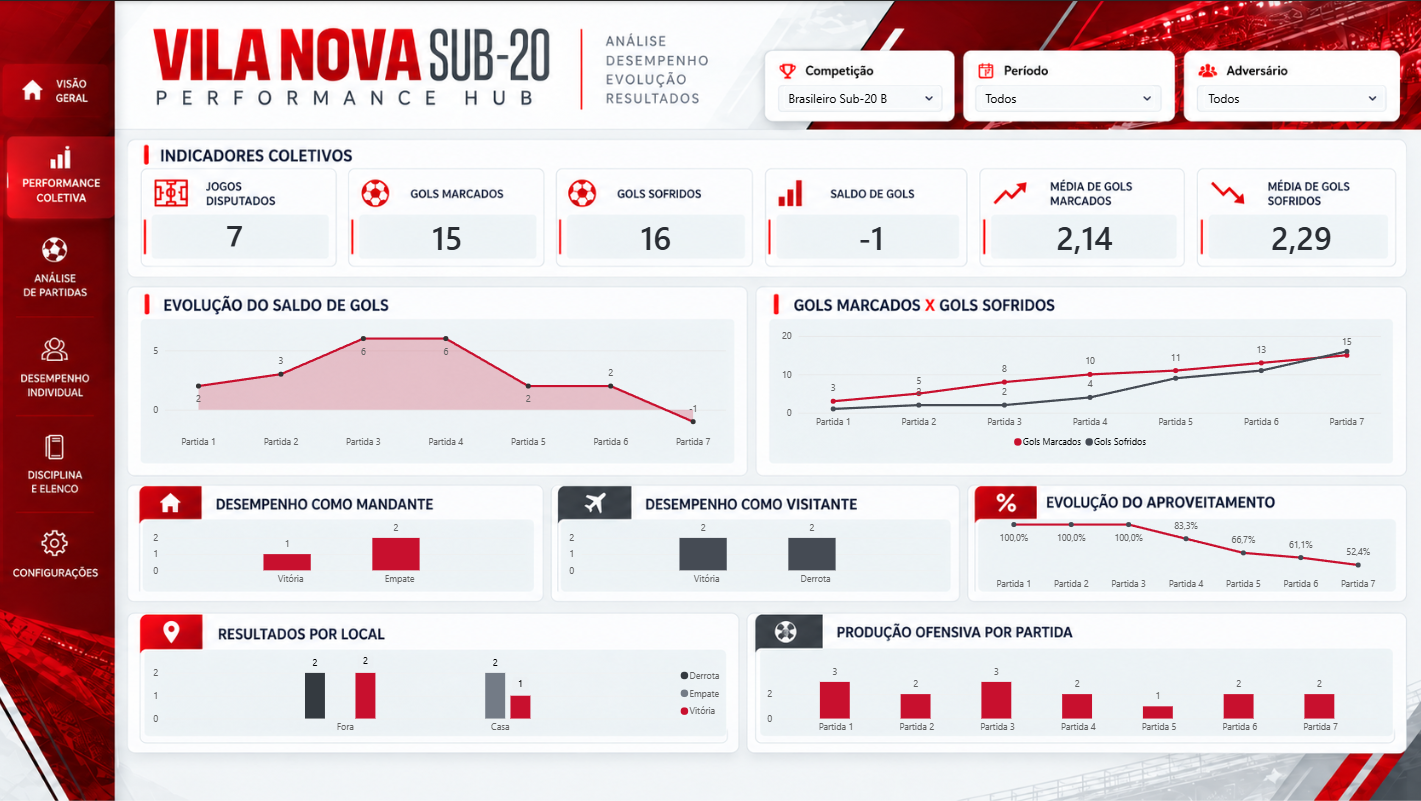

The dashboard page shown, as its layout file describes it:
{"tool":"powerbi","page":{"name":"02 - Performance Coletiva","canvas":[1920,1080],"ordinal":1},"visuals":[{"type":"slicer","fields":{"Values":["fato_partidas.competicao"]},"box":[1053.1,109.1,220.8,36.4],"z":0},{"type":"slicer","fields":{"Values":["dim_calendario.Data"]},"box":[1318.4,109.1,243.7,45.8],"z":1000},{"type":"slicer","fields":{"Values":["dim_partidas.Adversário"]},"box":[1618.7,109.1,253.2,36.4],"z":2000},{"type":"cardVisual","fields":{"Data":["Medidas.Jogos Disputados"]},"box":[192.7,286.4,252.7,60.9],"z":3000},{"type":"cardVisual","fields":{"Data":["Medidas.Gols Marcados"]},"box":[484.5,286.4,240.9,60.9],"z":4000},{"type":"cardVisual","fields":{"Data":["Medidas.Gols Sofridos"]},"box":[766.4,286.4,240,60.9],"z":5000},{"type":"cardVisual","fields":{"Data":["Medidas.Saldo de Gols"]},"box":[1052.7,286.4,245.5,60.9],"z":6000},{"type":"cardVisual","fields":{"Data":["Medidas.Média de Gols Marcados"]},"box":[1340,286.4,246.4,60.9],"z":7000},{"type":"cardVisual","fields":{"Data":["Medidas.Média de Gols Sofridos"]},"box":[1632.7,286.4,246.4,60.9],"z":8000},{"type":"lineChart","fields":{"Category":["dim_partidas.Nome da Partida"],"Y":["Medidas.Saldo de Gols Acumulado"]},"box":[192.6,428.2,803.9,195.3],"z":9000},{"type":"lineChart","fields":{"Category":["dim_partidas.Nome da Partida"],"Y":["Medidas.Gols Marcados Acumulados","Medidas.Gols Sofridos Acumulados"]},"box":[1039.6,428.2,839,195.3],"z":10000},{"type":"clusteredColumnChart","fields":{"Category":["dim_partidas.resultado"],"Y":["Medidas.Jogos Disputados"]},"box":[193,676.4,532.8,131.7],"z":11000},{"type":"clusteredColumnChart","fields":{"Category":["dim_partidas.resultado"],"Y":["Medidas.Jogos Disputados"]},"box":[752.7,676.4,532.8,131.7],"z":12000},{"type":"lineChart","fields":{"Category":["dim_partidas.Nome da Partida"],"Y":["Medidas.Aproveitamento Acumulado"]},"box":[1321,678.7,557.5,136],"z":13000},{"type":"clusteredColumnChart","fields":{"Category":["dim_partidas.mando_vila"],"Series":["dim_partidas.resultado"],"Y":["Medidas.Jogos Disputados"]},"box":[192.6,857.8,803.9,149.5],"z":14000},{"type":"clusteredColumnChart","fields":{"Category":["dim_partidas.Nome da Partida"],"Y":["Medidas.Gols Marcados"]},"box":[1019.4,869.9,853.8,137.4],"z":15000},{"type":"actionButton","box":[37.7,88.9,107.7,56.6],"z":16000},{"type":"actionButton","box":[24.2,317.8,107.7,56.6],"z":17000},{"type":"actionButton","box":[28.3,588.5,103.7,70],"z":18000},{"type":"actionButton","box":[28.3,444.4,103.7,83.5],"z":19000},{"type":"actionButton","box":[28.3,568.3,103.7,76.8],"z":20000}]}

Visuals, with their boxes on the page's 1920x1080 design canvas (x1, y1, x2, y2). These are canvas units, not pixel positions in the 1421x801 screenshot, which may show the page scaled, cropped or inside an application window:
slicer - fato_partidas.competicao: rect(1053, 109, 1274, 146)
slicer - dim_calendario.Data: rect(1318, 109, 1562, 155)
slicer - dim_partidas.Adversário: rect(1619, 109, 1872, 146)
cardVisual - Medidas.Jogos Disputados: rect(193, 286, 445, 347)
cardVisual - Medidas.Gols Marcados: rect(484, 286, 725, 347)
cardVisual - Medidas.Gols Sofridos: rect(766, 286, 1006, 347)
cardVisual - Medidas.Saldo de Gols: rect(1053, 286, 1298, 347)
cardVisual - Medidas.Média de Gols Marcados: rect(1340, 286, 1586, 347)
cardVisual - Medidas.Média de Gols Sofridos: rect(1633, 286, 1879, 347)
lineChart - dim_partidas.Nome da Partida x Medidas.Saldo de Gols Acumulado: rect(193, 428, 996, 624)
lineChart - dim_partidas.Nome da Partida x Medidas.Gols Marcados Acumulados: rect(1040, 428, 1879, 624)
clusteredColumnChart - dim_partidas.resultado x Medidas.Jogos Disputados: rect(193, 676, 726, 808)
clusteredColumnChart - dim_partidas.resultado x Medidas.Jogos Disputados: rect(753, 676, 1286, 808)
lineChart - dim_partidas.Nome da Partida x Medidas.Aproveitamento Acumulado: rect(1321, 679, 1878, 815)
clusteredColumnChart - dim_partidas.mando_vila x dim_partidas.resultado: rect(193, 858, 996, 1007)
clusteredColumnChart - dim_partidas.Nome da Partida x Medidas.Gols Marcados: rect(1019, 870, 1873, 1007)
actionButton: rect(38, 89, 145, 146)
actionButton: rect(24, 318, 132, 374)
actionButton: rect(28, 588, 132, 658)
actionButton: rect(28, 444, 132, 528)
actionButton: rect(28, 568, 132, 645)
